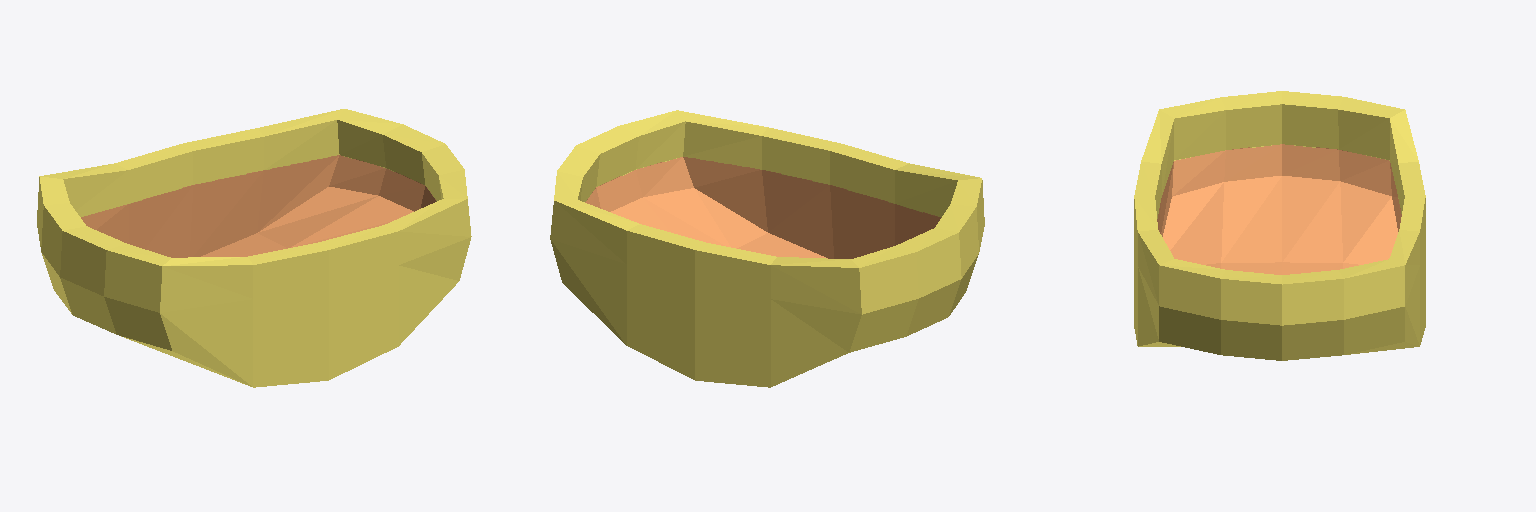
The picture shows the model from 3 angles: view 1: azimuth 30°, elevation 25°; view 2: azimuth 150°, elevation 25°; view 3: azimuth 270°, elevation 25°; orthographic projection.
Parts seen in each view (by area): view 1: nido_Cube.057; view 2: nido_Cube.057; view 3: nido_Cube.057.
Boxes of the visible parts, <box> form: nido_Cube.057: <box>37,109,471,387</box>; nido_Cube.057: <box>550,110,984,387</box>; nido_Cube.057: <box>1134,91,1425,360</box>.
Bounding box in the file's own units: 22.02 × 7.7 × 14.27.
Materials: 1 (1 with a texture image).